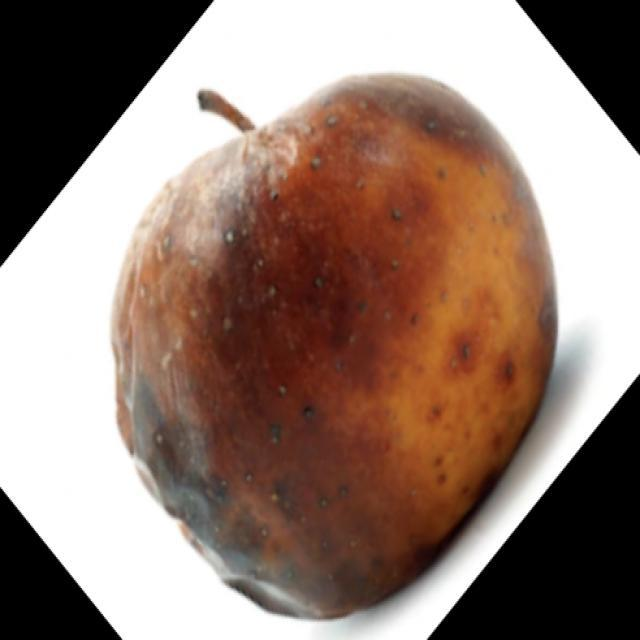Rotten: (104, 80, 554, 612)
